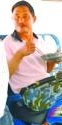boots: (0, 114, 25, 125), (0, 116, 12, 125)
hard-hat: (0, 0, 23, 10)
